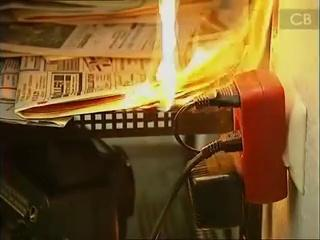Fire: (119, 1, 268, 116)
